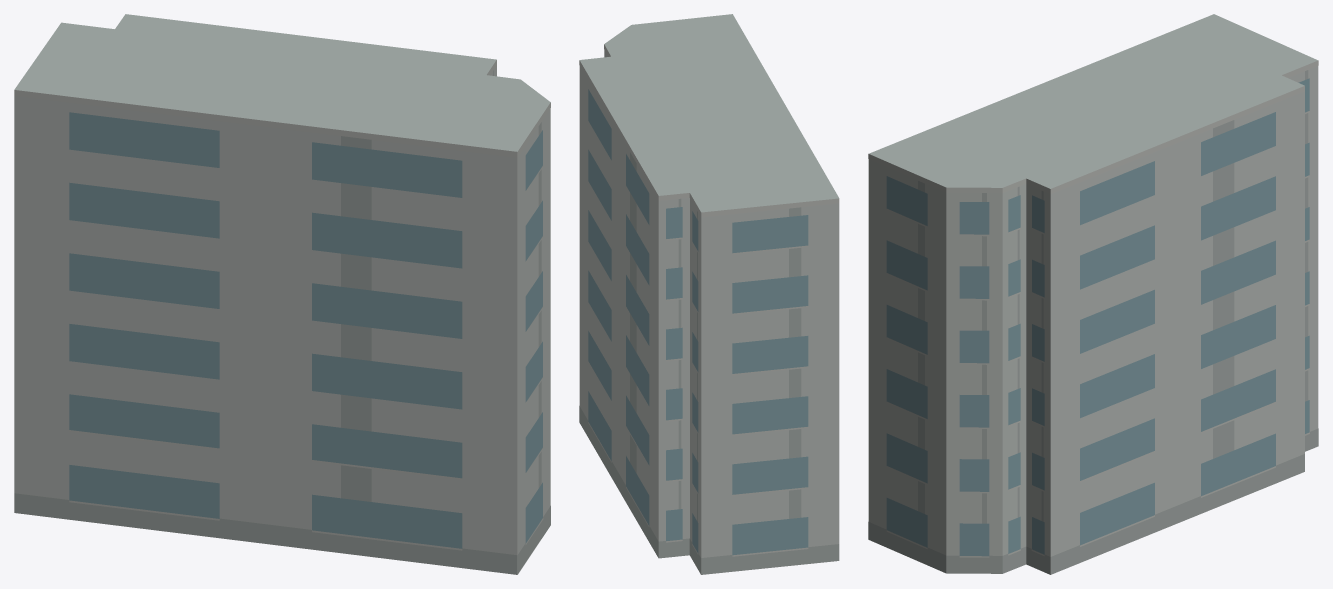
The model's file is survey-upis-32974986.glb.
3 views of the same model, side by side, from view 1: azimuth 30°, elevation 25°; view 2: azimuth 150°, elevation 25°; view 3: azimuth 270°, elevation 25° (orthographic). The views are drawn at different scales.
Parts seen in each view (by area): view 1: survey-upis-32974986.tmp; view 2: survey-upis-32974986.tmp; view 3: survey-upis-32974986.tmp.
Part boxes in pixels (x1,y1,x2,y2): survey-upis-32974986.tmp: [14, 14, 550, 574]; survey-upis-32974986.tmp: [579, 14, 839, 574]; survey-upis-32974986.tmp: [868, 14, 1318, 574].
Size of the model in its own units: 17.02 by 17.5 by 18.49.
